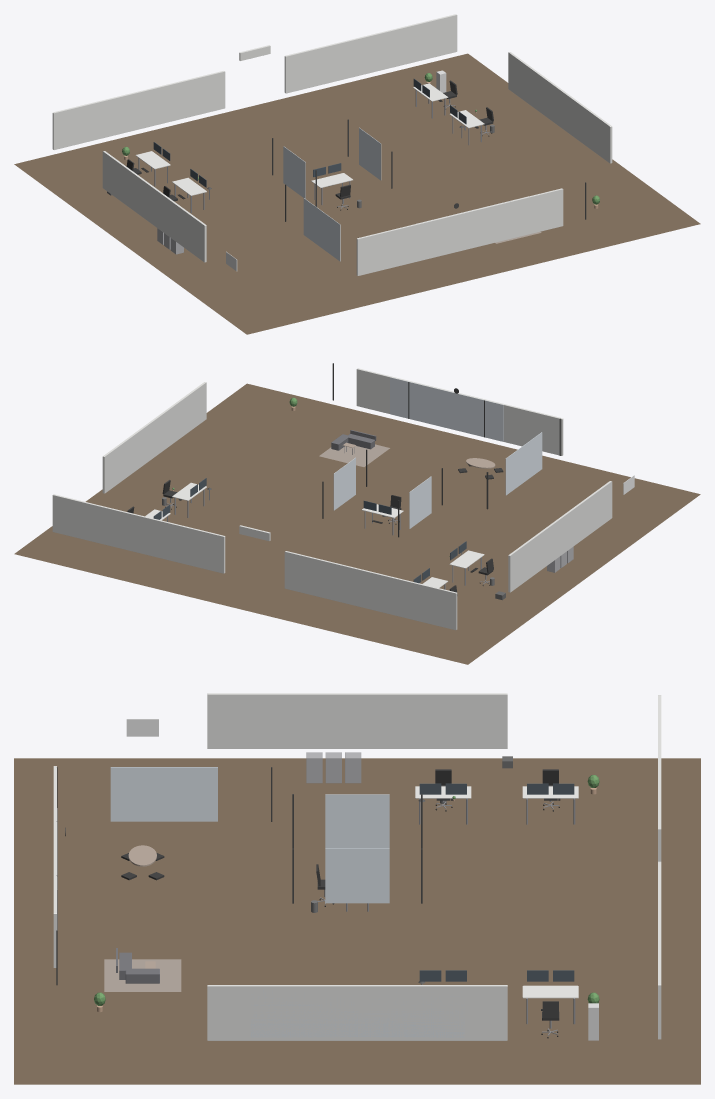
File: office_v22.glb
3 renders of one model, top to bottom at view 1: azimuth 30°, elevation 25°; view 2: azimuth 150°, elevation 25°; view 3: azimuth 270°, elevation 25°, orthographic. The views are drawn at different scales.
Parts seen in each view (by area): view 1: Plane, Cube, Cube.002, Cube.001, Cube.005, Cube.004, Cube.013, Cube.011, Cube.012; view 2: Plane, Cube.002, Cube.001, Cube.014, Cube.005, Cube.004, Cube, Cube.013, Cube.012, Cube.011, Plane.001; view 3: Plane, Cube.004, Cube.005, Cube.013, Cube.006, Cube.012, Cube.011, Plane.001, Cube, Cube.077, Cube.002.
Part boxes in pixels (box(x1,y1,x2,y2)): Plane: box(14, 53, 700, 334); Cube: box(356, 188, 563, 275); Cube.002: box(284, 14, 457, 93); Cube.001: box(52, 71, 225, 149); Cube.005: box(508, 52, 612, 163); Cube.004: box(102, 151, 206, 262); Cube.013: box(303, 198, 340, 261); Cube.011: box(283, 146, 305, 198); Cube.012: box(359, 127, 381, 180); Plane: box(14, 383, 700, 664); Cube.002: box(52, 494, 225, 573); Cube.001: box(284, 551, 457, 630); Cube.014: box(390, 377, 503, 441); Cube.005: box(102, 382, 206, 493); Cube.004: box(508, 481, 612, 592); Cube: box(356, 368, 563, 455); Cube.013: box(505, 432, 542, 495); Cube.012: box(333, 457, 355, 510); Cube.011: box(409, 476, 431, 528); Plane.001: box(319, 444, 389, 466); Plane: box(14, 758, 700, 1084); Cube.004: box(207, 693, 507, 748); Cube.005: box(207, 985, 507, 1040); Cube.013: box(110, 767, 217, 821); Cube.006: box(250, 989, 464, 1037); Cube.012: box(325, 848, 389, 903); Cube.011: box(325, 794, 389, 848); Plane.001: box(104, 959, 181, 991); Cube: box(53, 766, 56, 967); Cube.077: box(522, 985, 578, 998); Cube.002: box(658, 861, 661, 1039).
Bounding box in the file's own units: 18 × 2.65 × 16.
